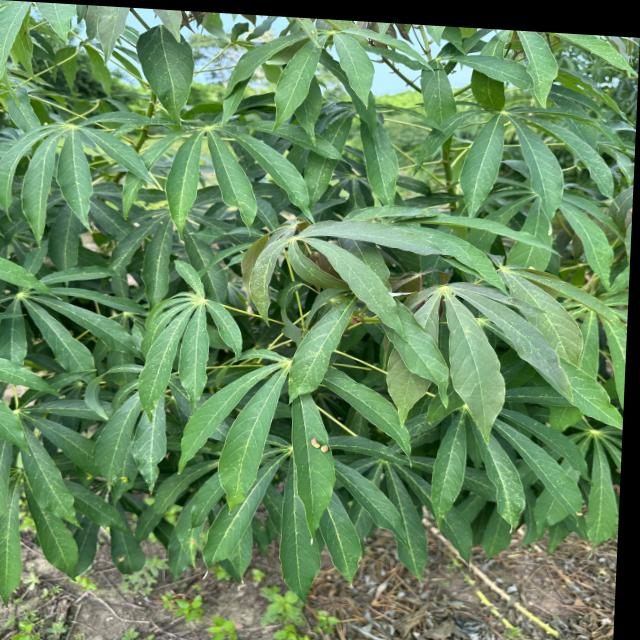Mosca: (307, 433, 332, 454), (116, 474, 132, 488), (115, 552, 131, 566), (522, 262, 539, 275)
